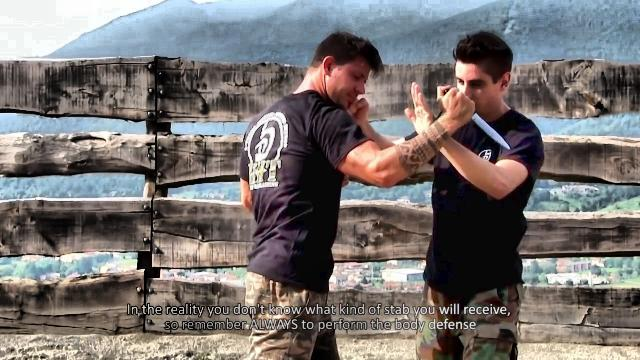knife: (436, 82, 512, 152)
